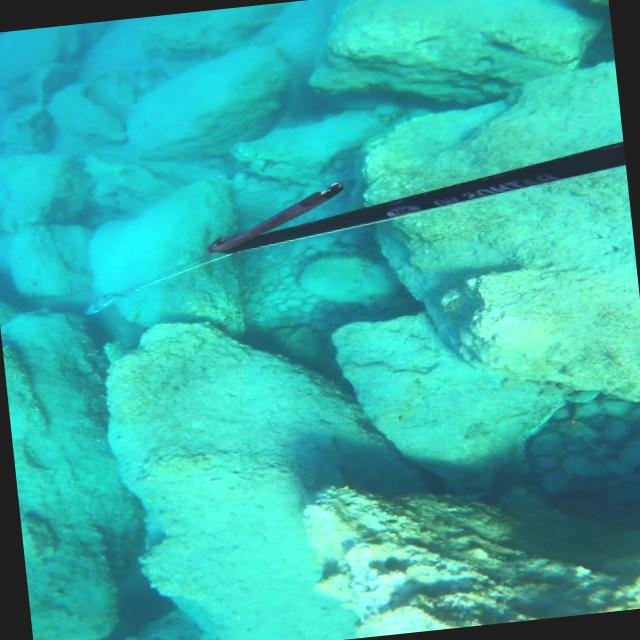Balon Baligi: (80, 292, 126, 314)
